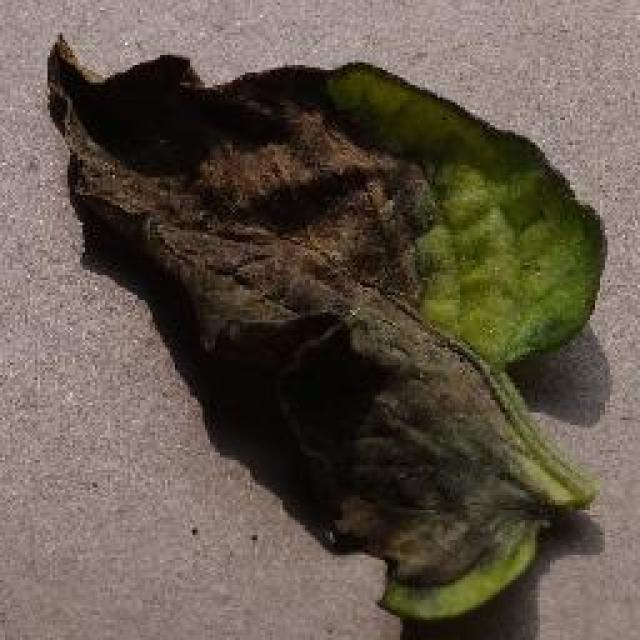Tomato Late Blight: (40, 15, 523, 547)
